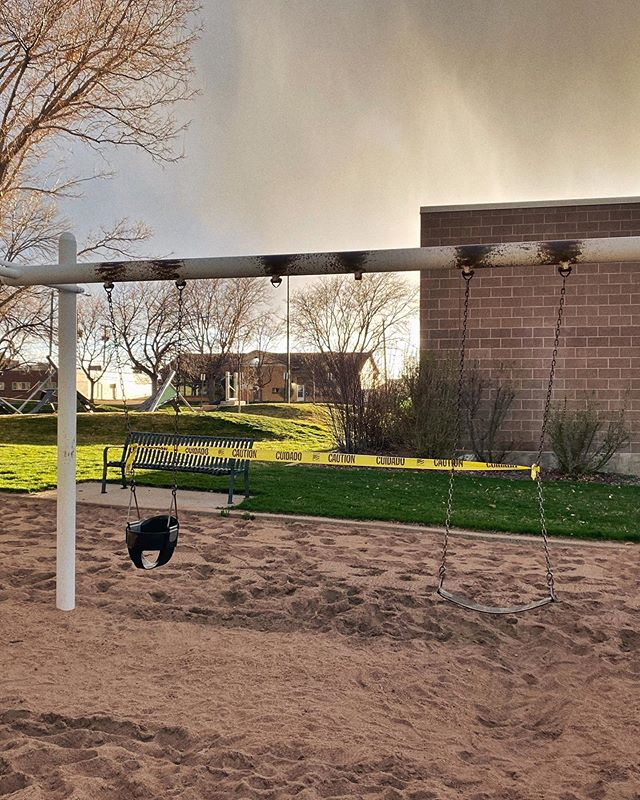bench: (99, 418, 267, 504)
building: (406, 191, 640, 449), (162, 349, 371, 403), (1, 346, 83, 413)
sky: (112, 1, 640, 239)
tree: (1, 1, 204, 255), (267, 268, 404, 398), (112, 284, 249, 414)
